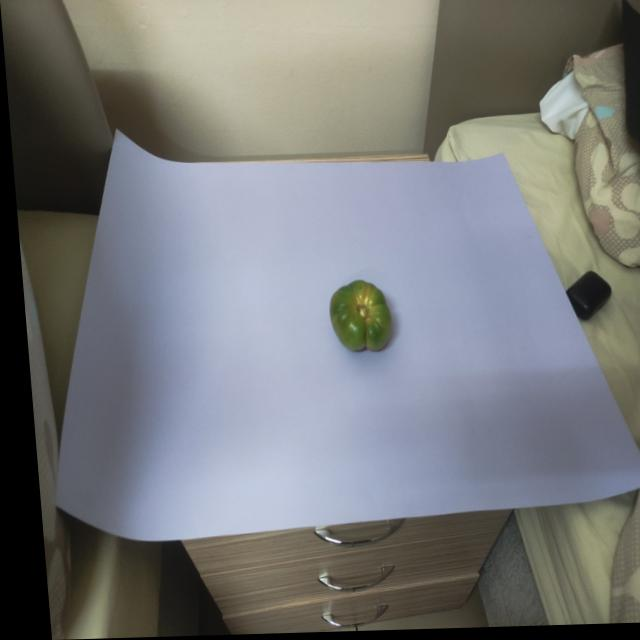yesil: (312, 257, 397, 379)
